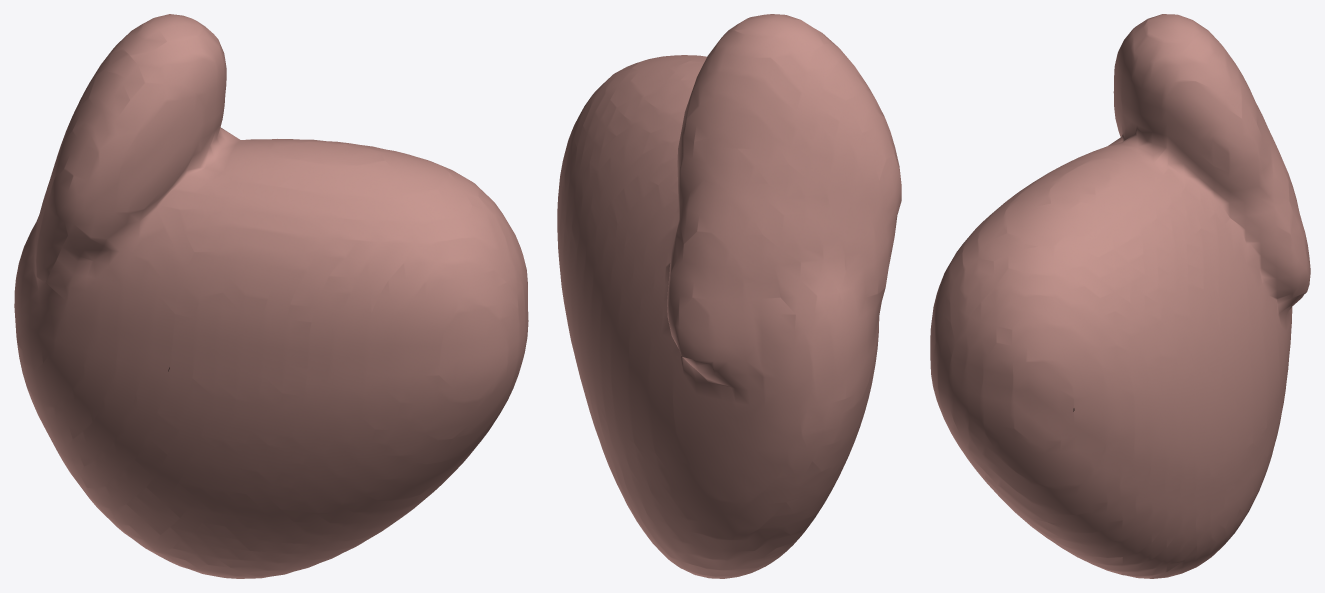
File: kayla-right.gltf
3 renders of one model, left to right at view 1: azimuth 30°, elevation 25°; view 2: azimuth 150°, elevation 25°; view 3: azimuth 270°, elevation 25°, orthographic. The views are drawn at different scales.
Parts seen in each view (by area): view 1: Layer_7; view 2: Layer_7; view 3: Layer_7.
Boxes of the visible parts, left/top/right/bottom form: Layer_7: left=14, top=14, right=528, bottom=578; Layer_7: left=557, top=14, right=901, bottom=578; Layer_7: left=930, top=14, right=1310, bottom=578.
Bounding box in the file's own units: 27.55 × 38.14 × 25.34.
Materials: 1 (1 with a texture image).
